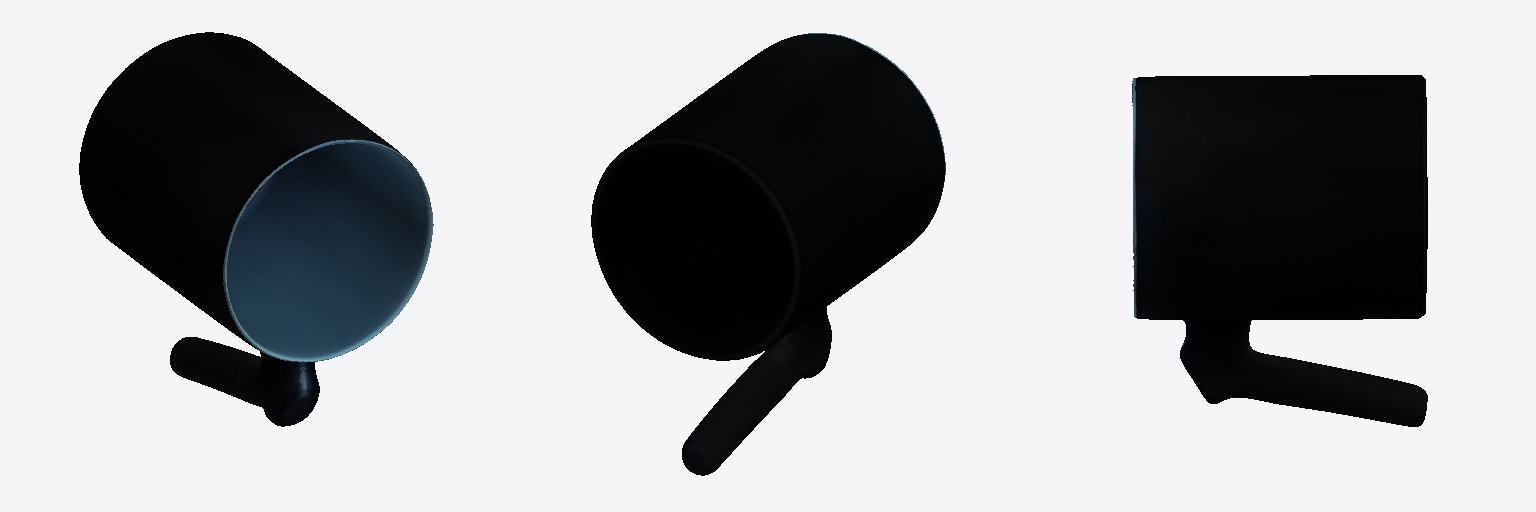
3 views of the same model, side by side, from view 1: azimuth 30°, elevation 25°; view 2: azimuth 150°, elevation 25°; view 3: azimuth 270°, elevation 25° (orthographic).
Visible parts, largest first — view 1: geometry_0; view 2: geometry_0; view 3: geometry_0.
Part boxes in pixels (x1,y1,x2,y2): geometry_0: (79, 32, 433, 426); geometry_0: (591, 33, 945, 475); geometry_0: (1132, 75, 1427, 426).
Size of the model in its own units: 82.78 by 125 by 99.11.
1 materials, 1 textured.